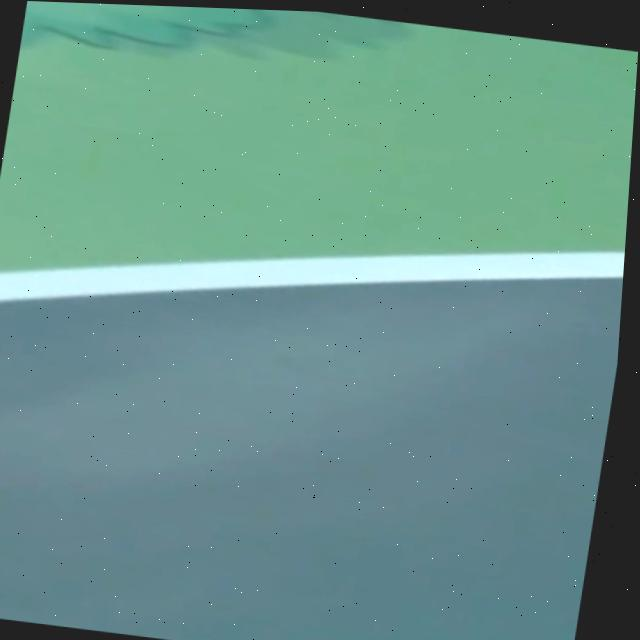right: (0, 252, 625, 301)
